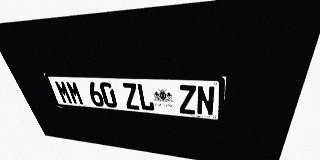0: (98, 82, 118, 108)
6: (86, 81, 105, 107)
L: (136, 83, 155, 111)
M: (54, 80, 74, 104), (65, 81, 85, 105)
N: (196, 85, 215, 116)
Z: (178, 85, 196, 115), (121, 83, 140, 110)
